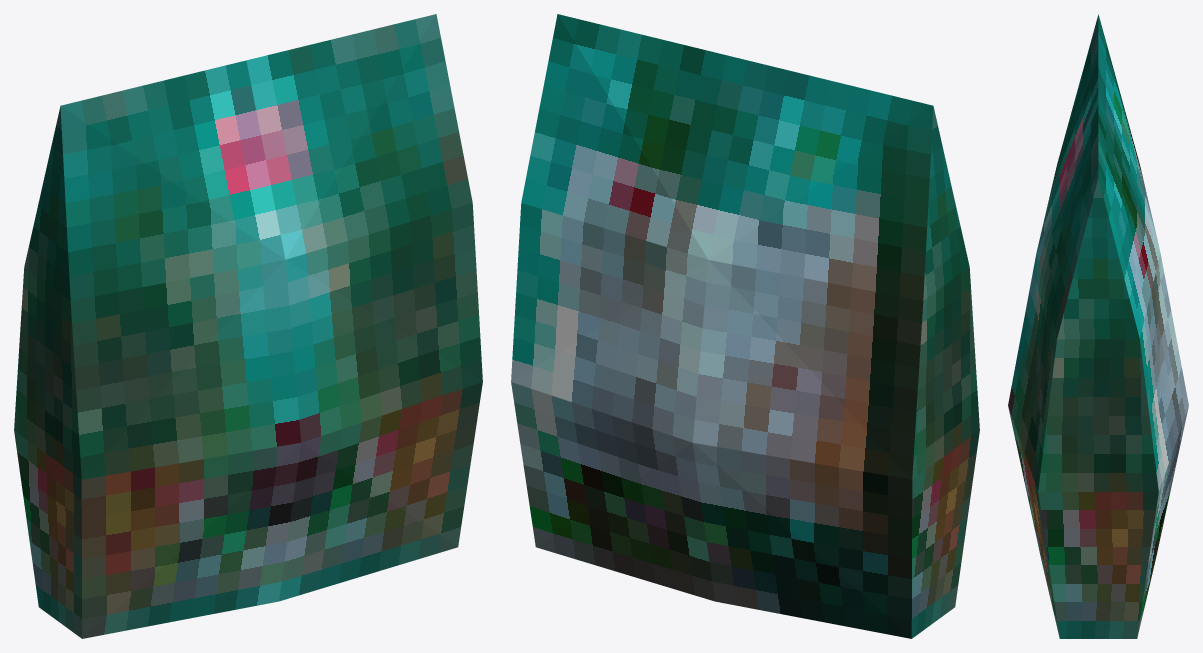
File: CandyBag01.obj
3 renders of one model, left to right at view 1: azimuth 30°, elevation 25°; view 2: azimuth 150°, elevation 25°; view 3: azimuth 270°, elevation 25°, orthographic. The views are drawn at different scales.
Parts seen in each view (by area): view 1: CandyBag01; view 2: CandyBag01; view 3: CandyBag01.
Boxes of the visible parts, box(x1,y1,x2,y2) form: CandyBag01: box(14, 14, 482, 638); CandyBag01: box(511, 14, 979, 638); CandyBag01: box(1008, 14, 1188, 638).
Bounding box in the file's own units: 0.3342 × 0.4109 × 0.1461.
